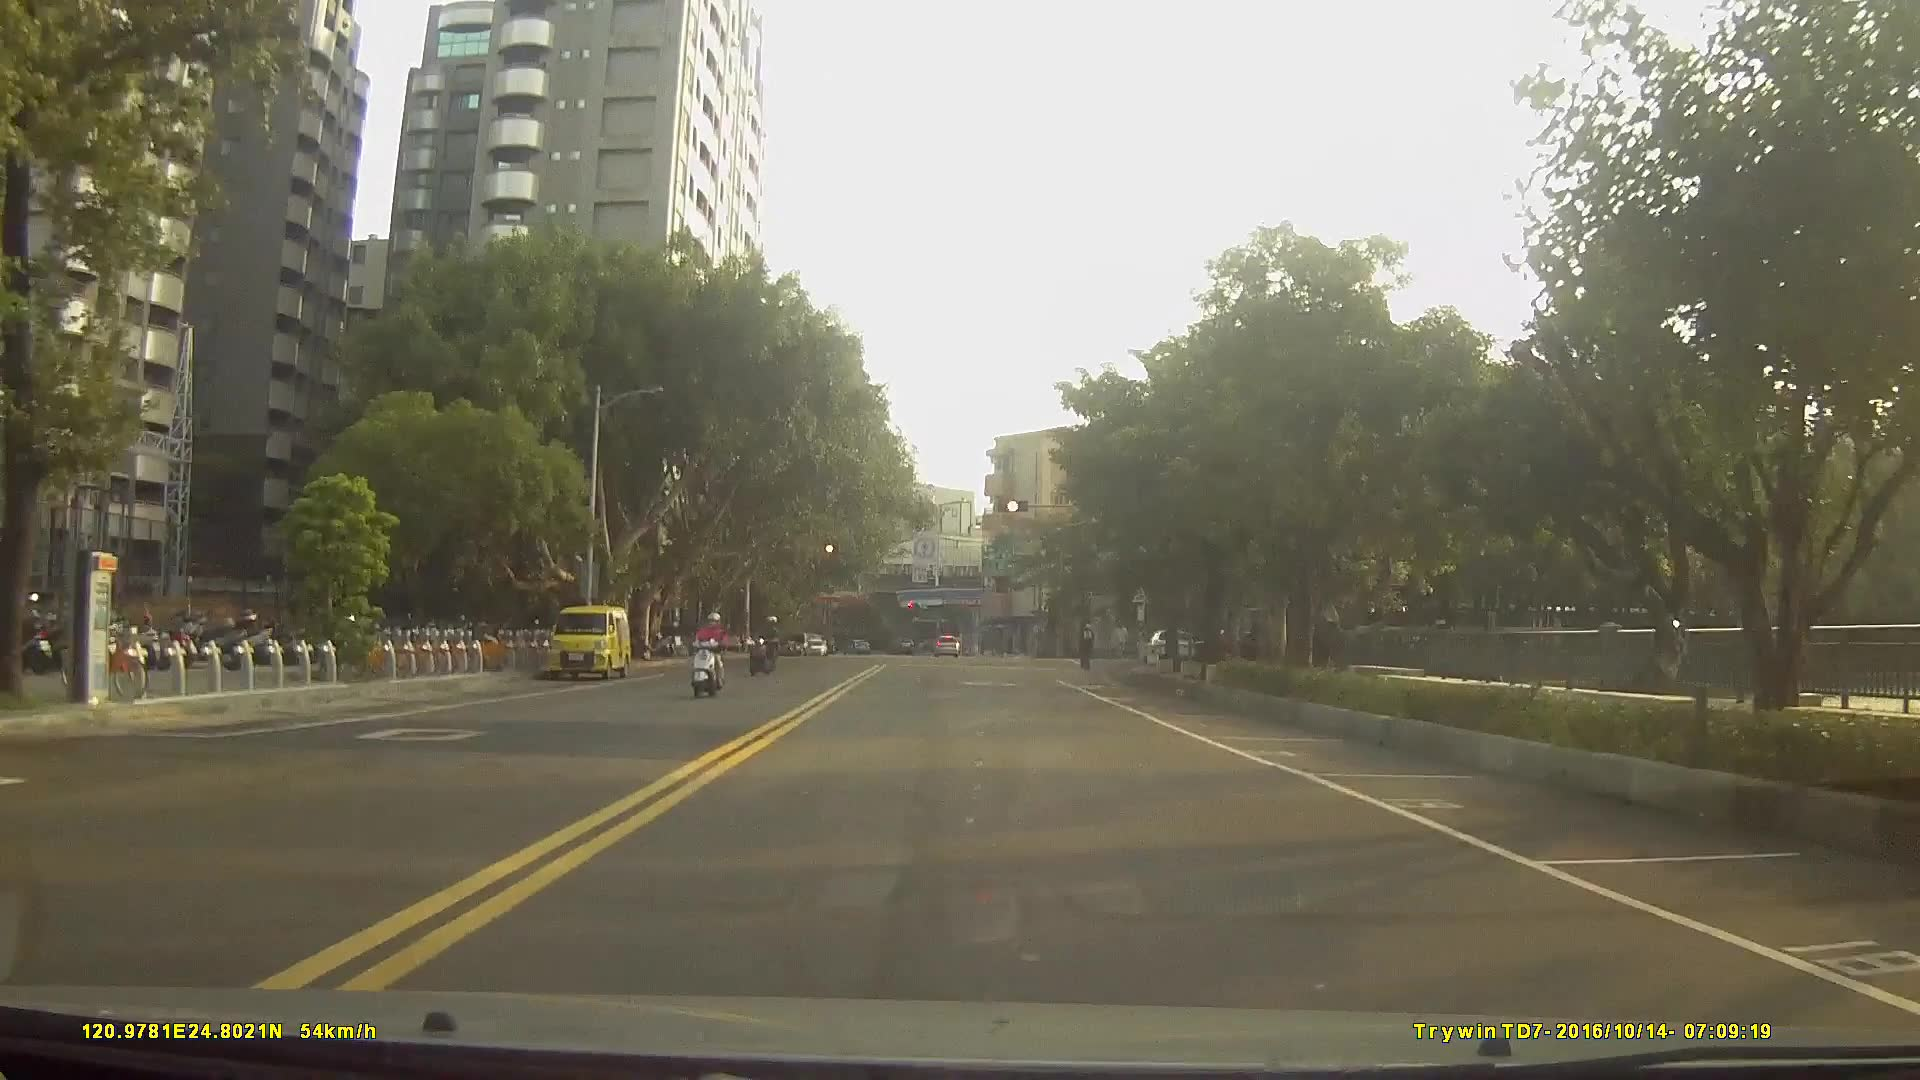pedestrian: (1113, 614, 1133, 660)
rider: (687, 611, 732, 696), (749, 608, 784, 671), (1077, 619, 1099, 672)
vehicle: (935, 634, 959, 656)
